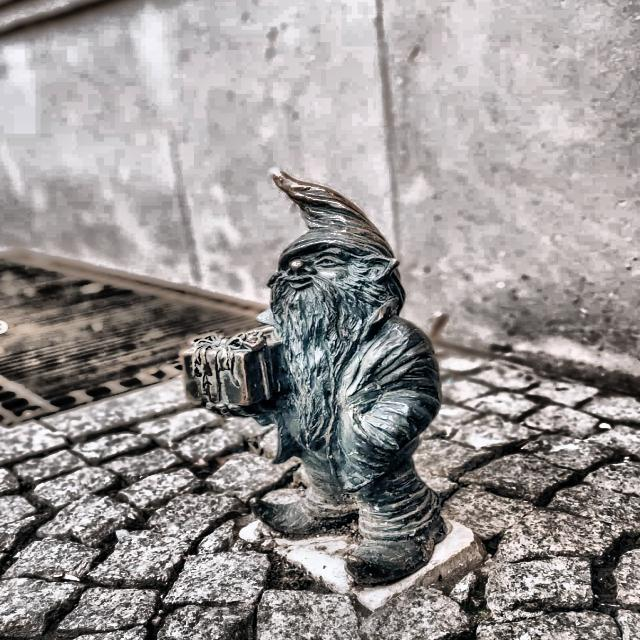Suvenirek: (182, 175, 444, 582)
